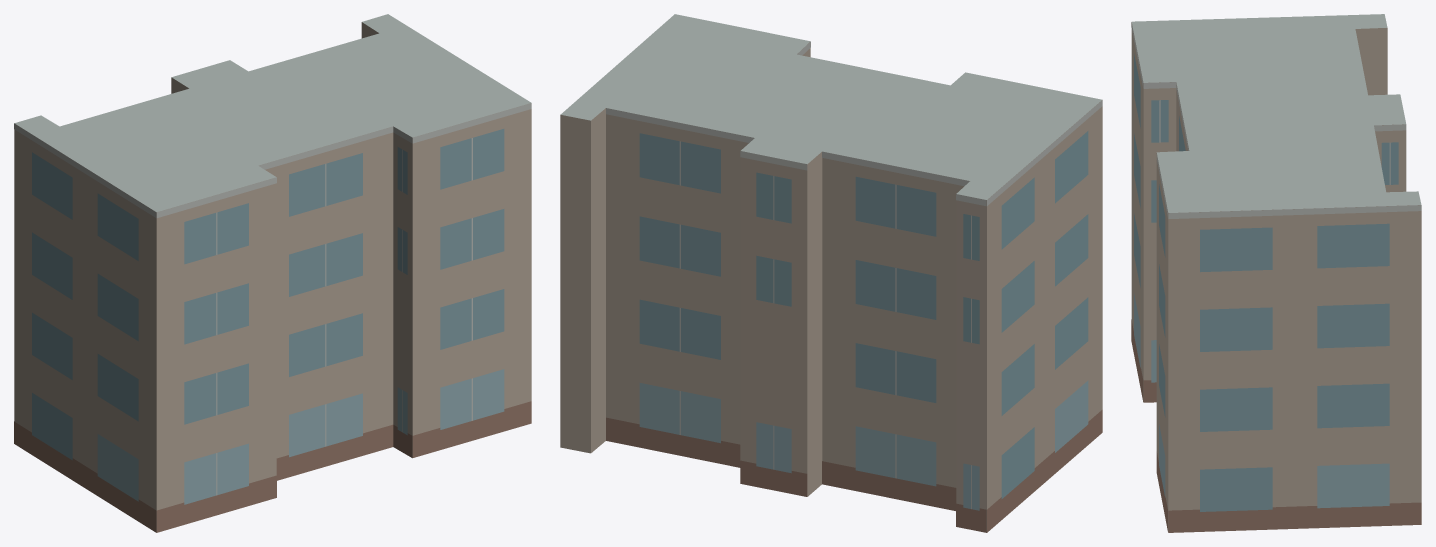
The model's file is survey-upis-32943754.glb.
The picture shows the model from 3 angles, left to right: view 1: azimuth 30°, elevation 25°; view 2: azimuth 150°, elevation 25°; view 3: azimuth 270°, elevation 25°; orthographic projection. The views are drawn at different scales.
Parts seen in each view (by area): view 1: survey-upis-32943754.tmp; view 2: survey-upis-32943754.tmp; view 3: survey-upis-32943754.tmp.
Boxes of the visible parts, x1,y1,x2,y2 form: survey-upis-32943754.tmp: (14,14,531,532); survey-upis-32943754.tmp: (560,14,1102,532); survey-upis-32943754.tmp: (1131,14,1421,532).
Bounding box in the file's own units: 17.23 × 12.9 × 10.61.
